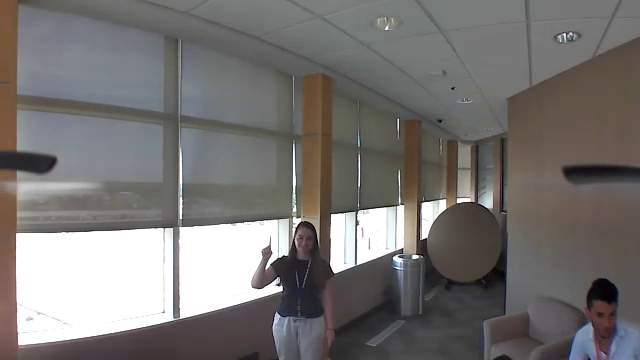up: (258, 233, 273, 261)
